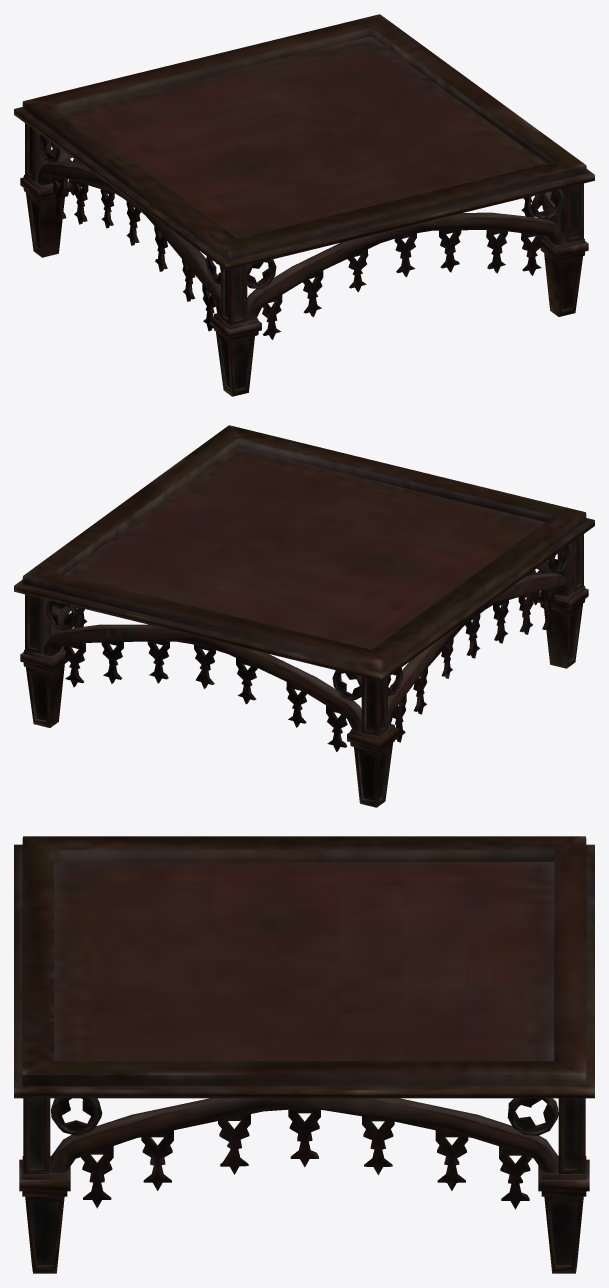
File: coffee-table-gothic.lite.7b5d5558.glb
The picture shows the model from 3 angles, top to bottom: view 1: azimuth 30°, elevation 25°; view 2: azimuth 150°, elevation 25°; view 3: azimuth 270°, elevation 25°; orthographic projection. The views are drawn at different scales.
Parts seen in each view (by area): view 1: model; view 2: model; view 3: model.
Boxes of the visible parts, bbox=[...] form: model: bbox=[14, 14, 594, 396]; model: bbox=[14, 425, 594, 807]; model: bbox=[14, 836, 594, 1273].
Bounding box in the file's own units: 1.44 × 0.5568 × 1.44.
Materials: 1 (1 with a texture image).
